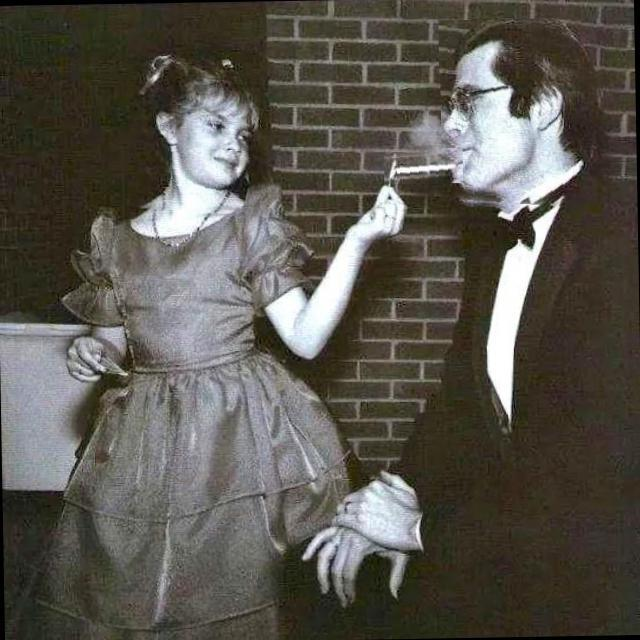cigarette: (384, 147, 464, 184)
